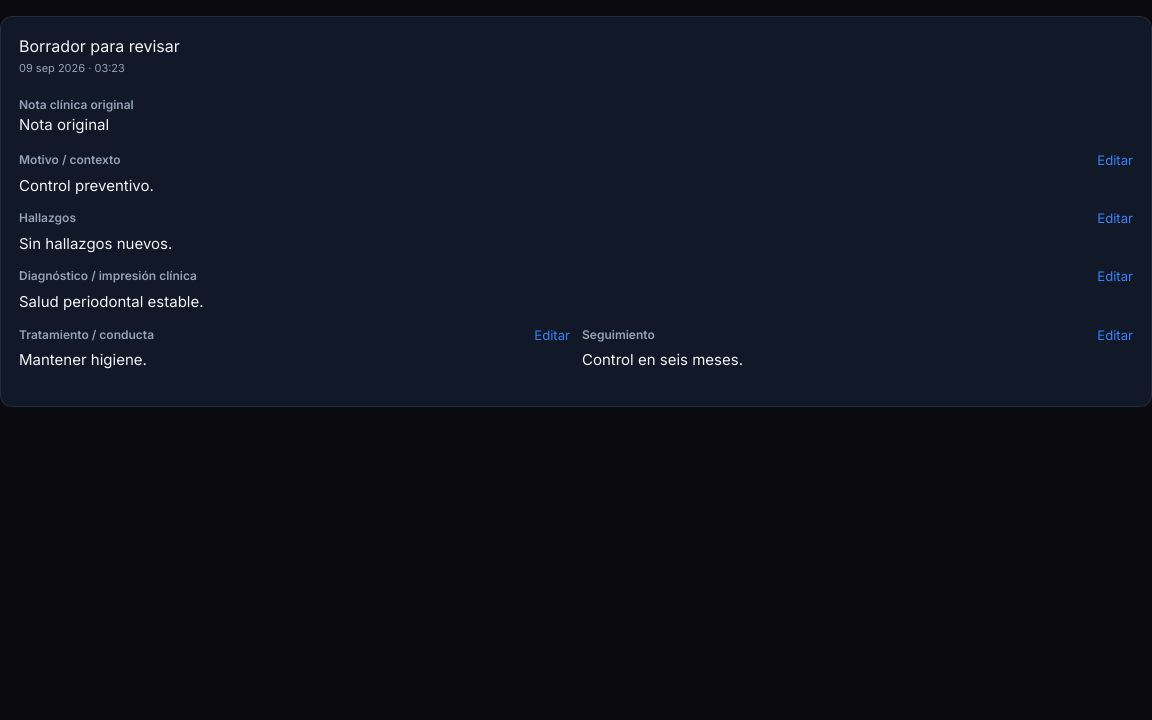
Test case: EvolutionReviewArtifact › starts in read mode and edits one field on demand
Click the button with aria-label "Editar Hallazgos". click: (1115,218)
box: [1097,209,1133,228]
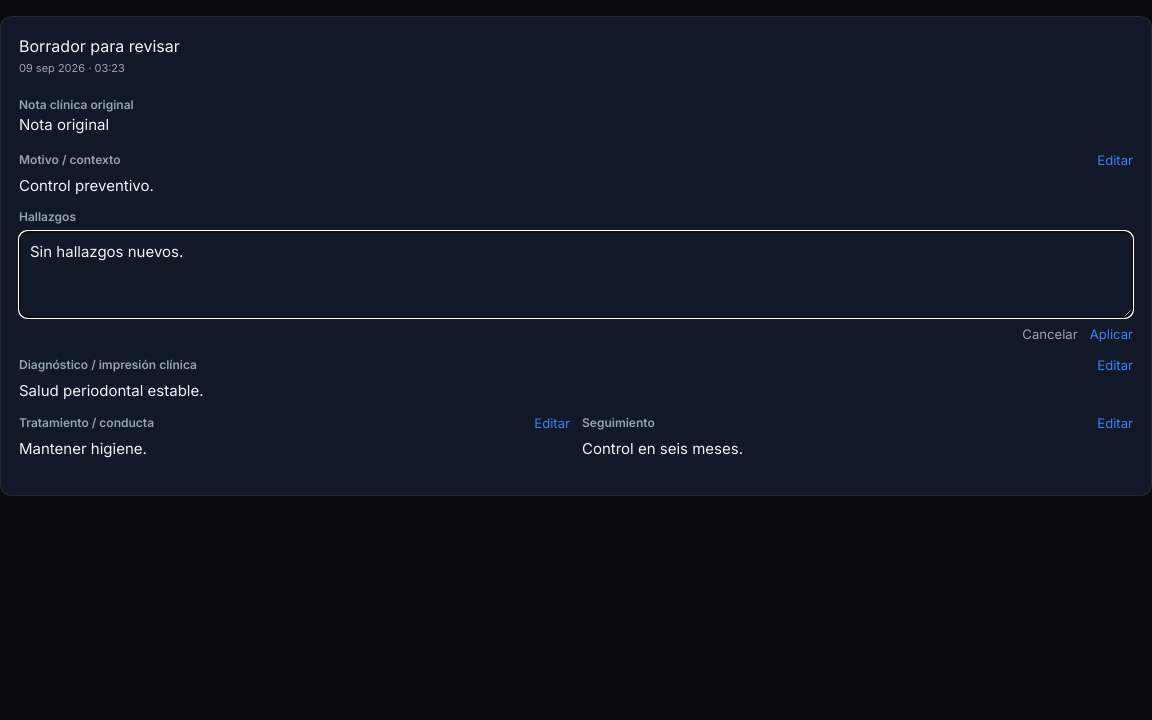
expect the text box named "Hallazgos" holds "Sin hallazgos nuevos.": met, box [19,231,1133,318]
